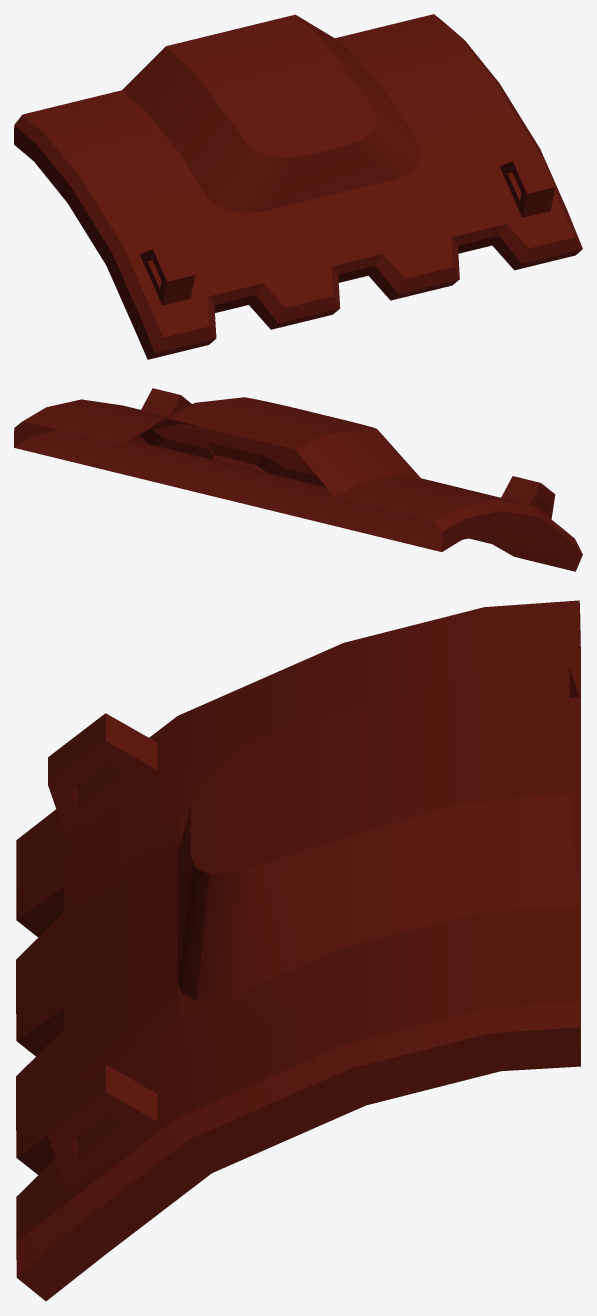
Rendered from kin_minidungeon_garbagechute02.fbx.
The picture shows the model from 3 angles, top to bottom: view 1: azimuth 30°, elevation 25°; view 2: azimuth 150°, elevation 25°; view 3: azimuth 270°, elevation 25°; orthographic projection. The views are drawn at different scales.
Visible parts, largest first — view 1: part5_lp.002; view 2: part5_lp.002; view 3: part5_lp.002.
Part boxes in pixels (x1,y1,x2,y2): part5_lp.002: (14,14,582,359); part5_lp.002: (14,388,582,571); part5_lp.002: (16,600,580,1301).
Size of the model in its own units: 16.56 by 6.71 by 9.46.
